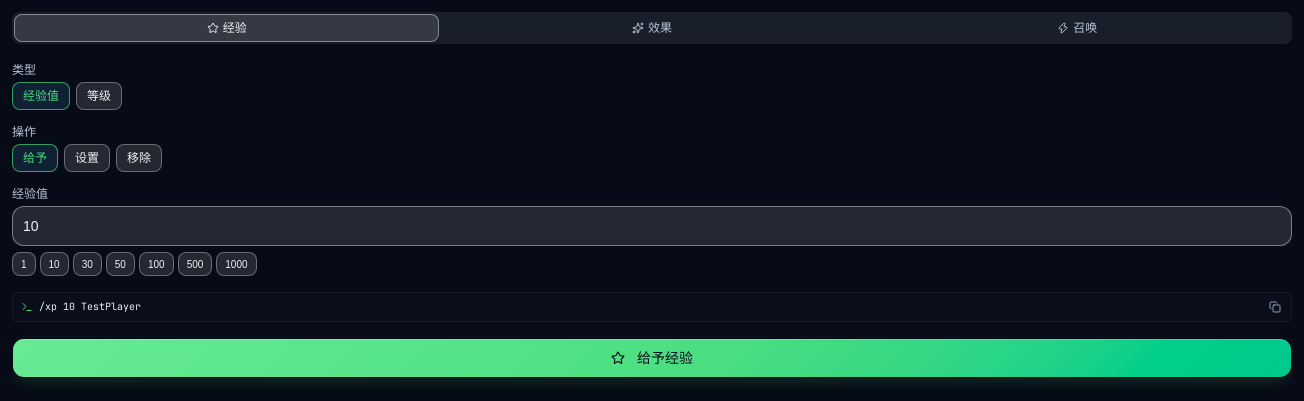
it: ActionForms › 设置经验值生成 /xp set 语法
Click the radio button "设置" at point(87, 158), box [64,144,110,172]
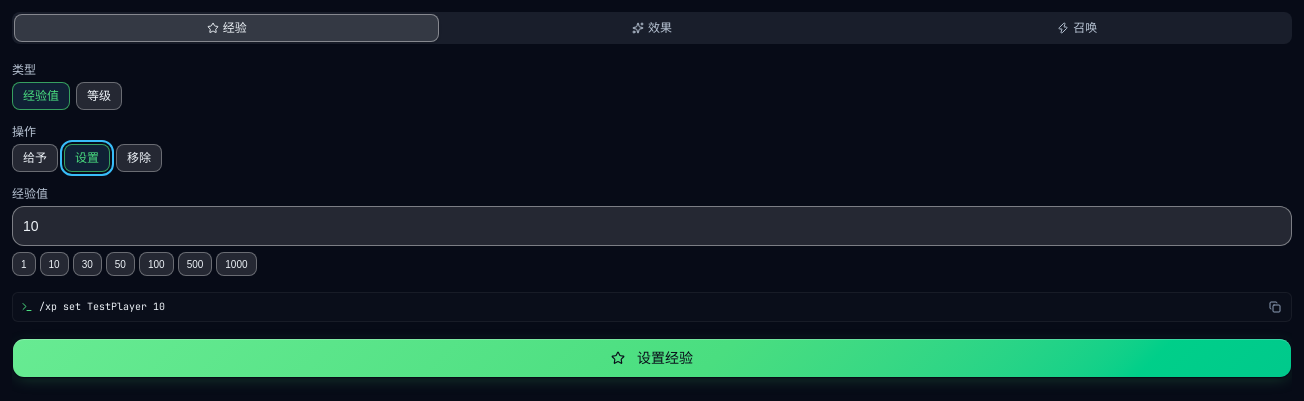
Expected: the text "/xp set TestPlayer 10" is shown, [39,300,165,313]
